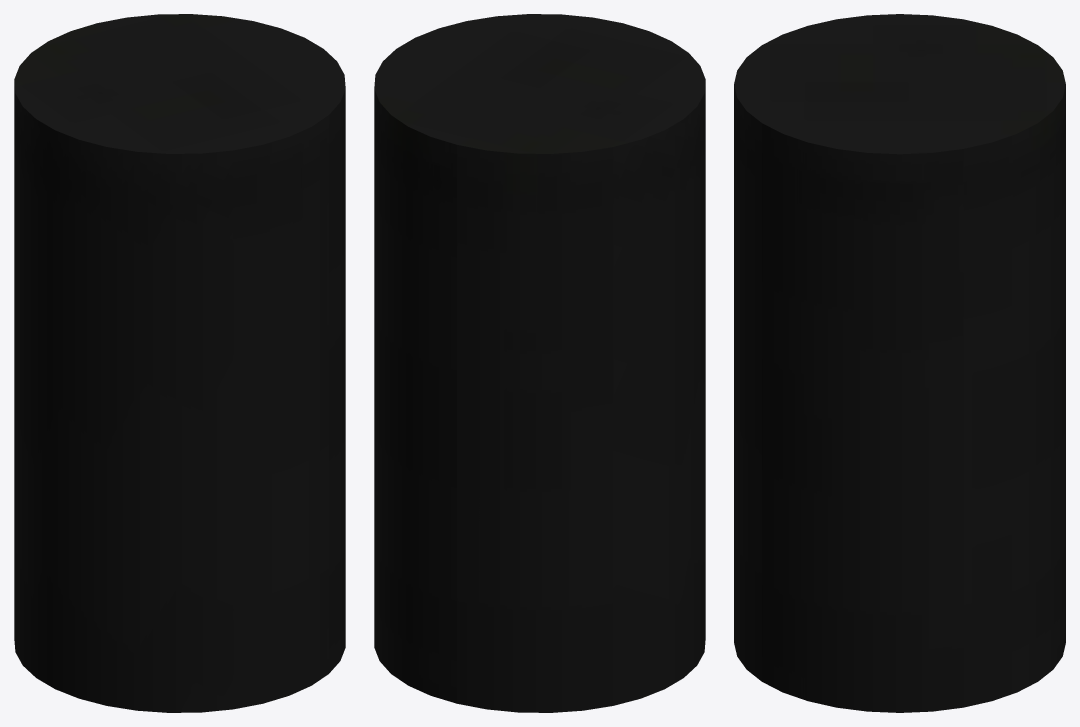
Rendered from selector_knob__knob_shaft.glb.
The picture shows the model from 3 angles, left to right: view 1: azimuth 30°, elevation 25°; view 2: azimuth 150°, elevation 25°; view 3: azimuth 270°, elevation 25°; orthographic projection.
Visible parts, largest first — view 1: world; view 2: world; view 3: world.
Boxes of the visible parts, left/top/right/bottom form: world: left=14, top=14, right=345, bottom=712; world: left=374, top=14, right=705, bottom=712; world: left=734, top=14, right=1065, bottom=712.
Size of the model in its own units: 0.014 by 0.026 by 0.014.
Materials: 1 (1 with a texture image).
